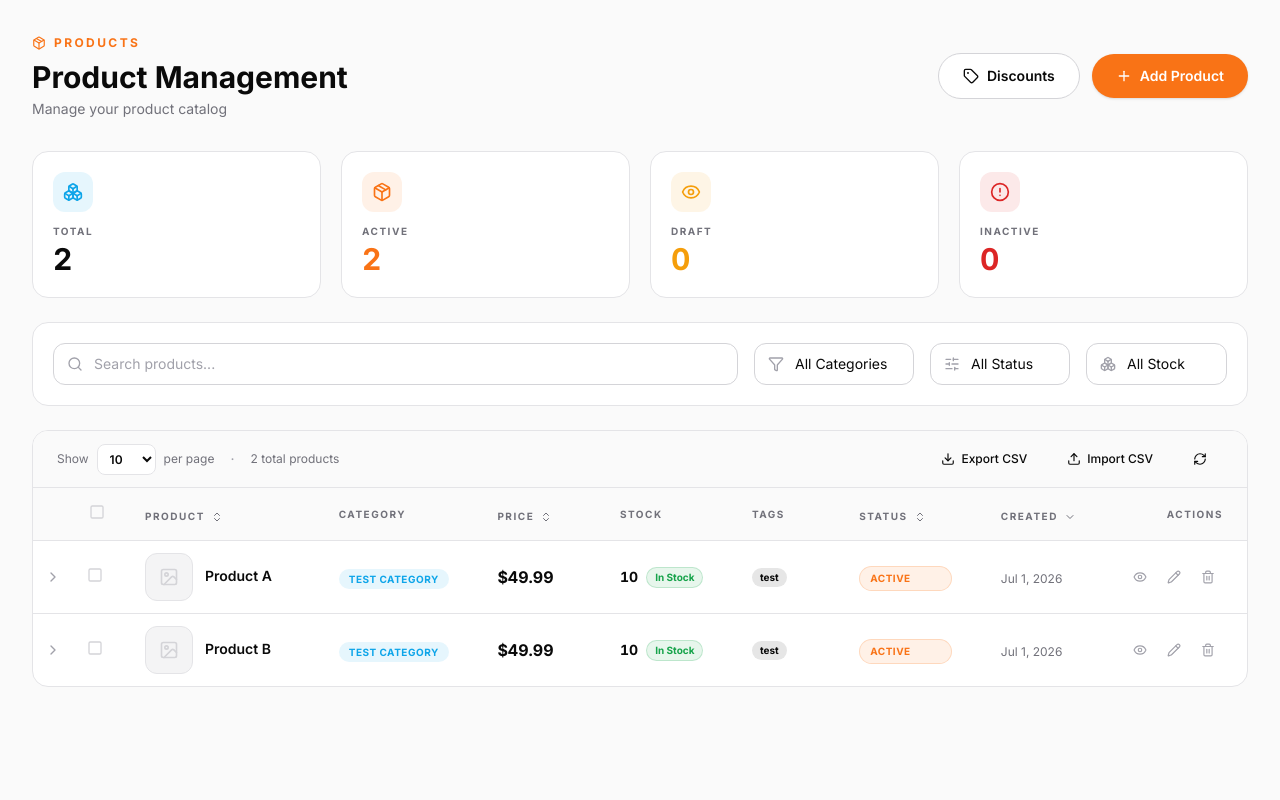
Test: ManageProducts — force delete flow › resets forceDelete when opening modal for a different product
Expected: the text "Product A" is shown, [205,567,272,585]
# Open modal for Product A, check force delete
Click the button titled "Delete product" in the row of "Product A" at (1208, 577), box [1193,562,1223,592]
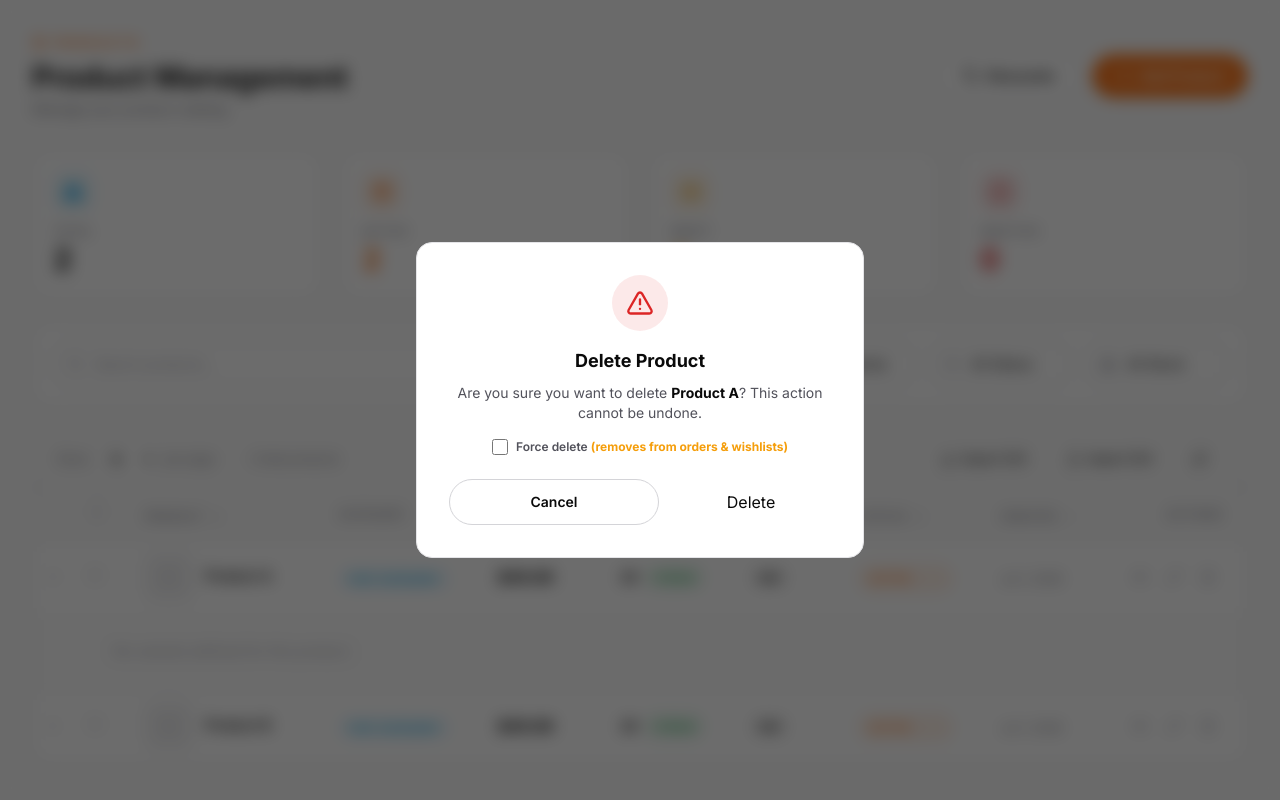
Expected: the heading "Delete Product" is shown, [575,350,705,371]
Click the checkbox at (500, 447), box [492,439,508,455]
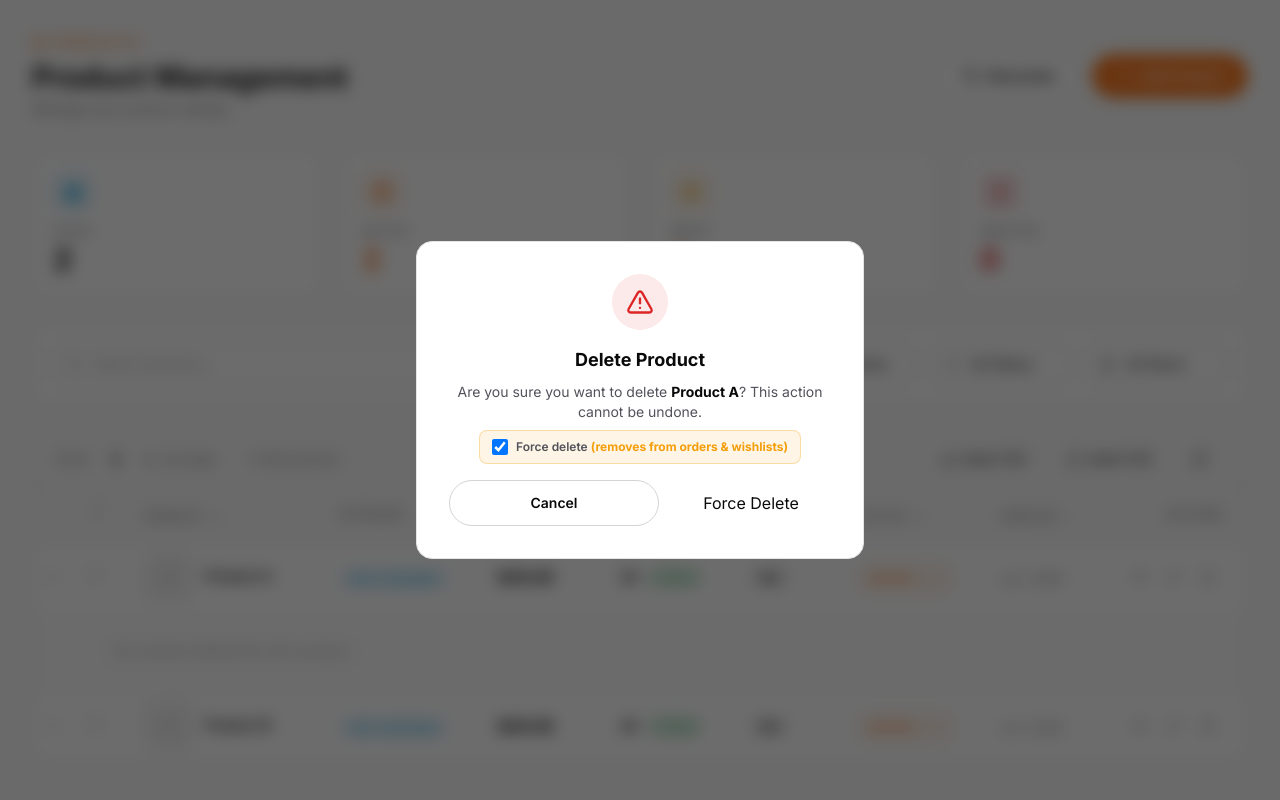
Expected: the checkbox is checked, [492,439,508,455]
# Cancel and open for Product B
Click the button "Cancel" at (554, 503), box [449,480,659,526]
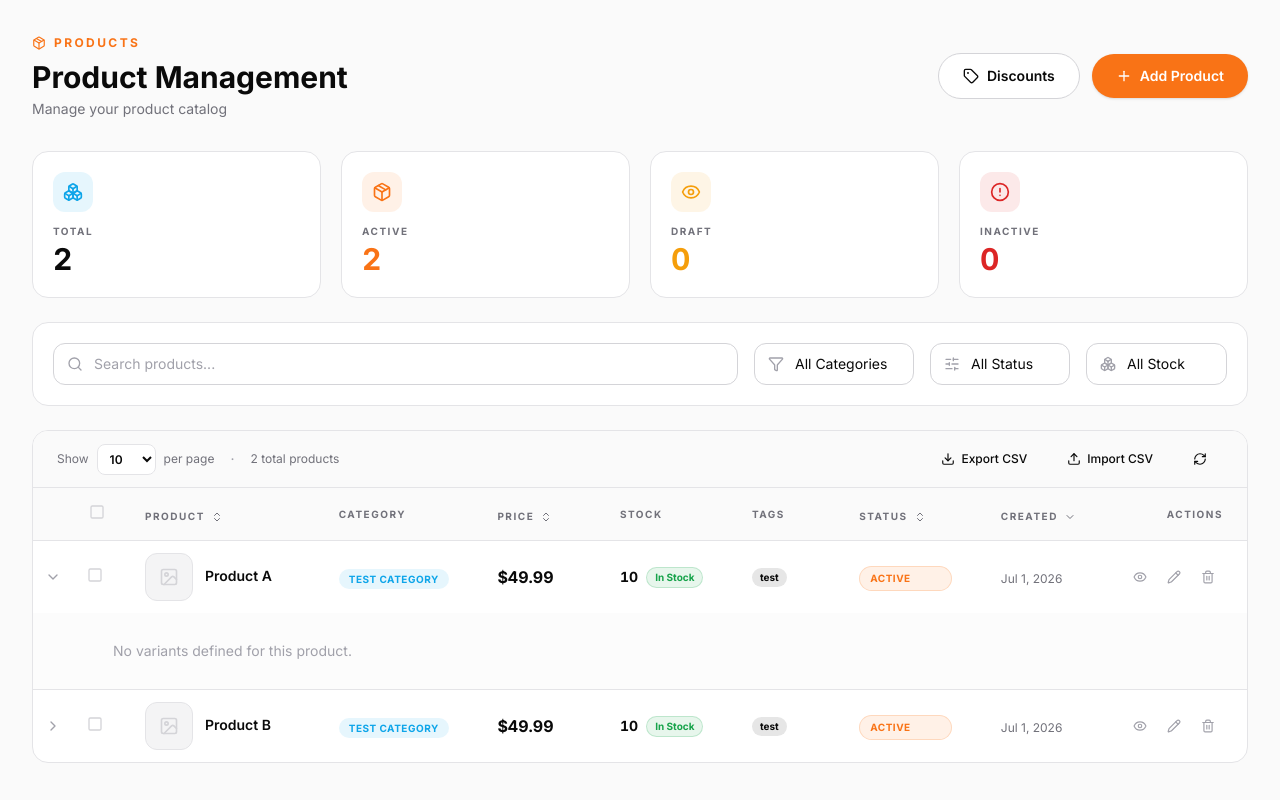
Expected: the heading "Delete Product" is gone
Click the button titled "Delete product" in the row of "Product B" at (1208, 726), box [1193,711,1223,741]
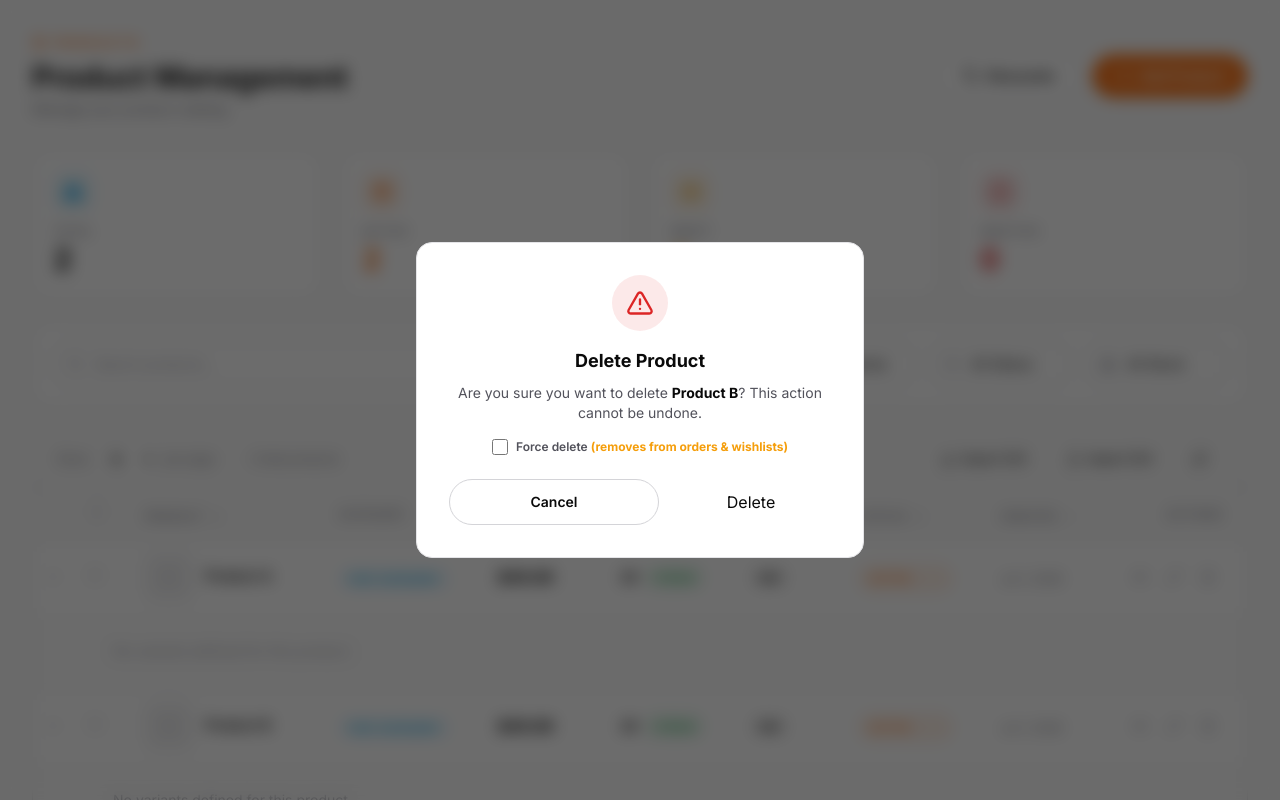
Expected: the heading "Delete Product" is shown, [575,350,705,371]
Expected: the checkbox is not checked, [492,439,508,455]
Expected: the button "Delete" is shown, [671,479,831,525]
